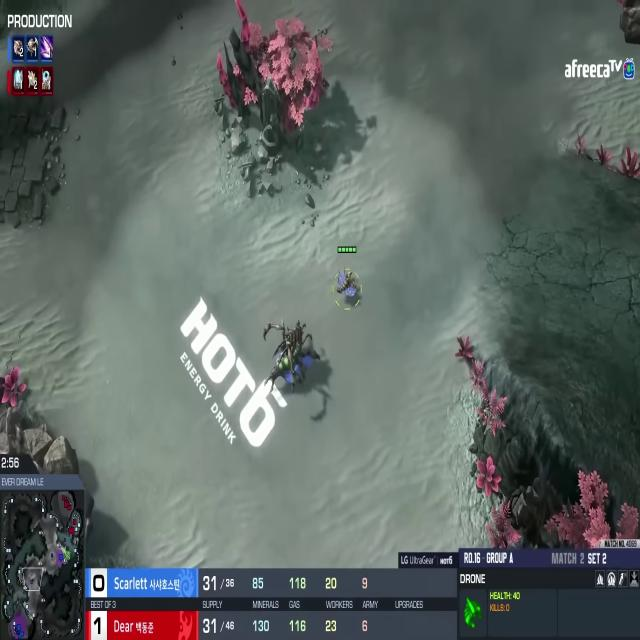drone: (332, 260, 362, 310)
queen: (260, 306, 324, 398)
